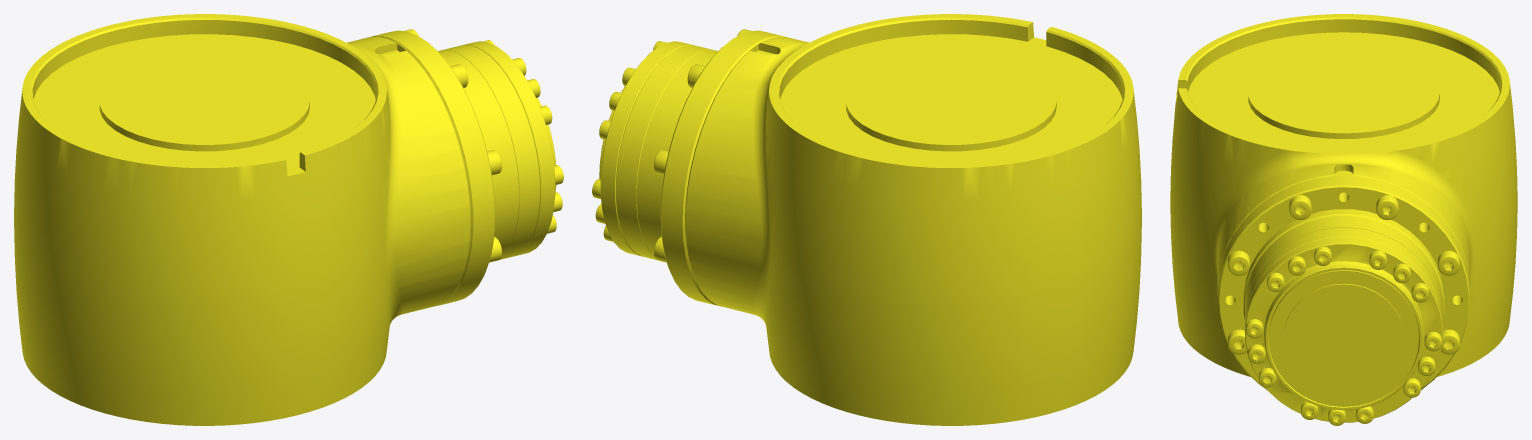
3 views of the same model, side by side, from view 1: azimuth 30°, elevation 25°; view 2: azimuth 150°, elevation 25°; view 3: azimuth 270°, elevation 25° (orthographic). The views are drawn at different scales.
Visible parts, largest first — view 1: /Link5/Link5-mesh/0; view 2: /Link5/Link5-mesh/0; view 3: /Link5/Link5-mesh/0.
Boxes of the visible parts, bbox=[...] form: /Link5/Link5-mesh/0: bbox=[14, 14, 563, 425]; /Link5/Link5-mesh/0: bbox=[592, 14, 1141, 425]; /Link5/Link5-mesh/0: bbox=[1170, 14, 1517, 425].
Size of the model in its own units: 0.1562 by 0.081 by 0.1085.
